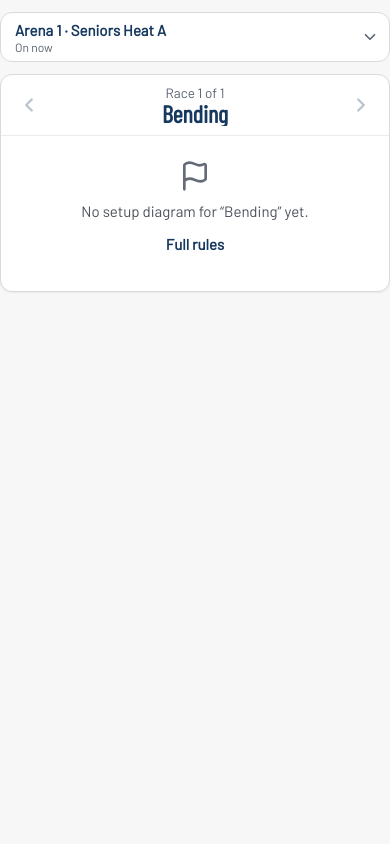
switches to the other arena’s live heat and remembers the choice for the competition
This screenshot has width=390, height=844.
expect the heading "Bending" is shown: met, box top-left (162, 101), bottom-right (228, 126)
Click the button "Arena 1 · Seniors Heat A On now".
click(91, 30)  # box top-left (0, 12), bottom-right (389, 62)
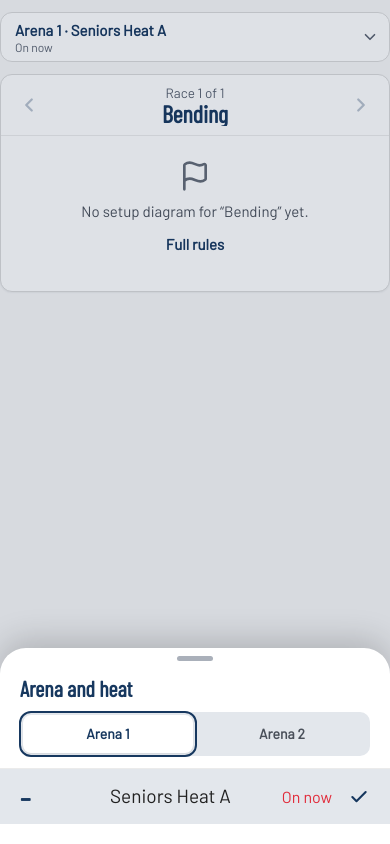
Click the tab "Arena 2".
click(282, 734)  # box top-left (197, 715), bottom-right (367, 753)
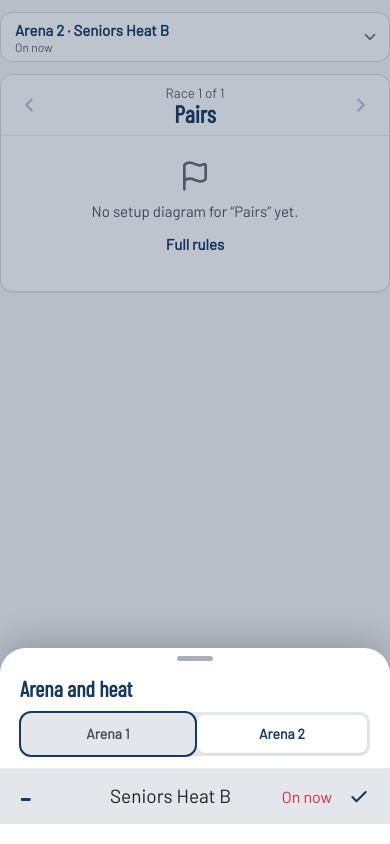
expect the tab "Arena 2" is shown: met, box top-left (197, 715), bottom-right (367, 753)
expect the heading "Pairs" is shown: met, box top-left (174, 101), bottom-right (216, 126)
expect the heading "Bending" is gone: met
